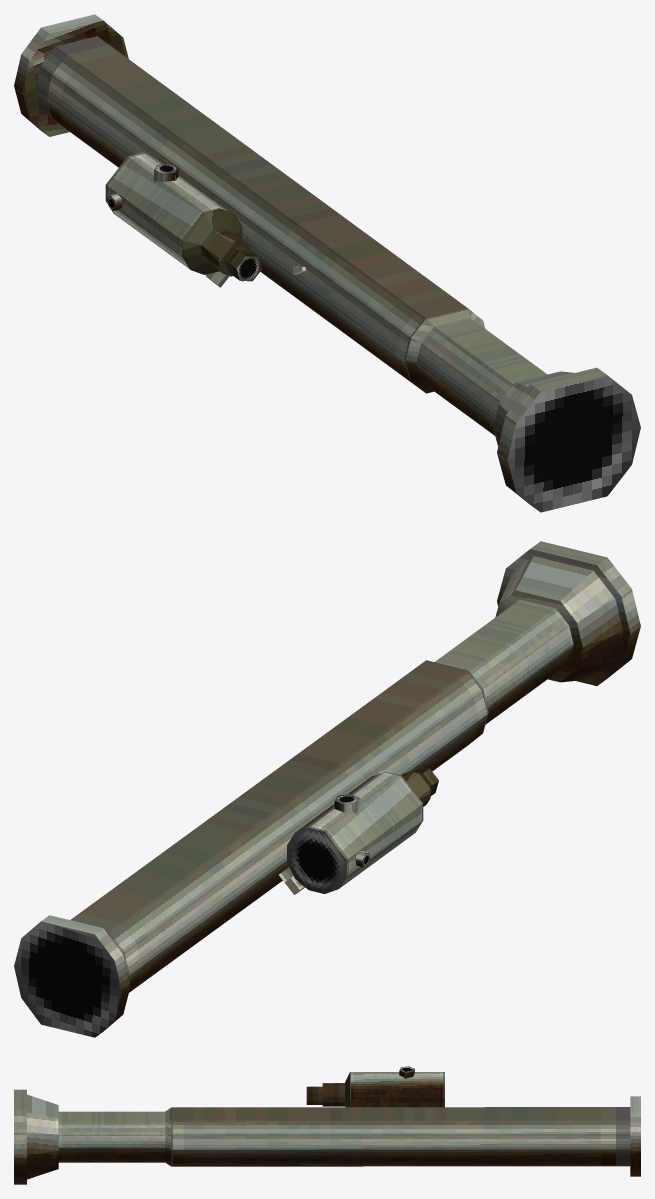
The model's file is recovered_gun_at4_63da572e.glb.
3 renders of one model, top to bottom at view 1: azimuth 30°, elevation 25°; view 2: azimuth 150°, elevation 25°; view 3: azimuth 270°, elevation 25°, orthographic. The views are drawn at different scales.
Parts seen in each view (by area): view 1: Gun_628855c9e9b6, Gun_379f7b5fa02f; view 2: Gun_628855c9e9b6, Gun_379f7b5fa02f; view 3: Gun_628855c9e9b6.
Boxes of the visible parts, x1,y1,x2,y2 form: Gun_628855c9e9b6: (14,14,606,509); Gun_379f7b5fa02f: (107,163,640,512); Gun_628855c9e9b6: (41,541,640,1035); Gun_379f7b5fa02f: (14,794,370,1037); Gun_628855c9e9b6: (14,1069,640,1184).
Bounding box in the file's own units: 0.2063 × 0.1273 × 0.9319.
Materials: 3 (3 with a texture image).
